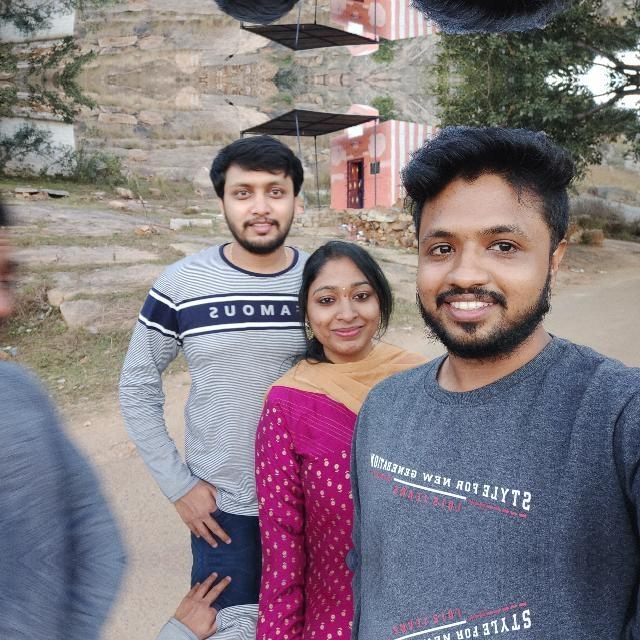person: (388, 110, 614, 422), (185, 137, 298, 261), (286, 236, 398, 358), (387, 0, 614, 49), (184, 0, 297, 23)
